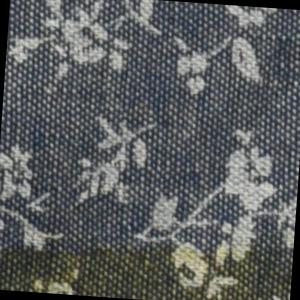Stain: (1, 223, 295, 300)
